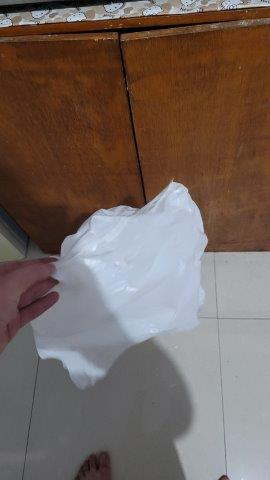plastik: (33, 182, 206, 392)
